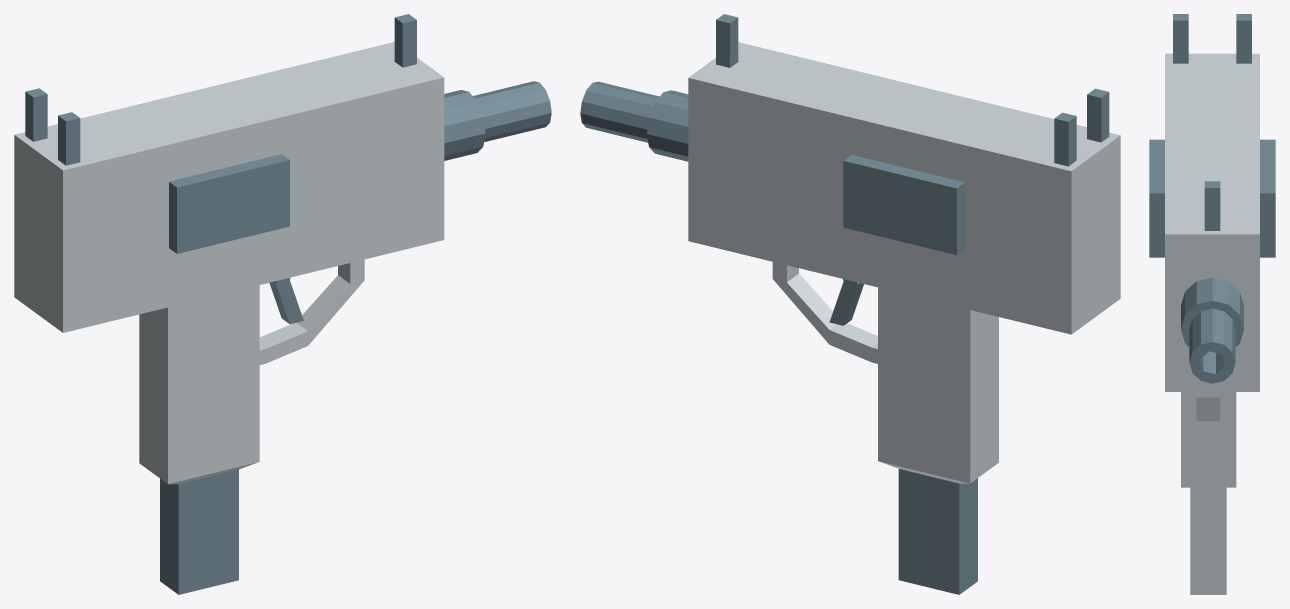
3 views of the same model, side by side, from view 1: azimuth 30°, elevation 25°; view 2: azimuth 150°, elevation 25°; view 3: azimuth 270°, elevation 25° (orthographic). The views are drawn at different scales.
Parts seen in each view (by area): view 1: mesh_1487853911, mesh_1708819615, mesh_47982412, mesh_1115432163, mesh_1330485529, mesh_216373091, mesh_1286593356, mesh_594497910, mesh_270998664; view 2: mesh_1487853911, mesh_1708819615, mesh_47982412, mesh_1115432163, mesh_1330485529, mesh_216373091, mesh_1286593356, mesh_594497910, mesh_270998664; view 3: mesh_1487853911, mesh_1708819615, mesh_1115432163, mesh_47982412, mesh_594497910, mesh_216373091, mesh_1286593356, mesh_1330485529.
Boxes of the visible parts, left/top/right/bottom form: mesh_1487853911: left=14, top=42, right=444, bottom=332; mesh_1708819615: left=139, top=285, right=259, bottom=594; mesh_47982412: left=169, top=154, right=289, bottom=253; mesh_1115432163: left=444, top=81, right=551, bottom=160; mesh_1330485529: left=259, top=259, right=364, bottom=364; mesh_216373091: left=25, top=88, right=47, bottom=141; mesh_1286593356: left=58, top=112, right=80, bottom=165; mesh_594497910: left=394, top=14, right=416, bottom=67; mesh_270998664: left=269, top=277, right=303, bottom=324; mesh_1487853911: left=688, top=42, right=1120, bottom=334; mesh_1708819615: left=878, top=287, right=998, bottom=594; mesh_47982412: left=843, top=155, right=964, bottom=255; mesh_1115432163: left=580, top=81, right=688, bottom=161; mesh_1330485529: left=772, top=262, right=877, bottom=363; mesh_216373091: left=1054, top=112, right=1076, bottom=166; mesh_1286593356: left=1087, top=88, right=1109, bottom=142; mesh_594497910: left=716, top=14, right=738, bottom=67; mesh_270998664: left=829, top=279, right=863, bottom=325; mesh_1487853911: left=1165, top=53, right=1259, bottom=391; mesh_1708819615: left=1181, top=392, right=1236, bottom=594; mesh_1115432163: left=1181, top=277, right=1243, bottom=383; mesh_47982412: left=1149, top=139, right=1275, bottom=257; mesh_594497910: left=1204, top=181, right=1220, bottom=230; mesh_216373091: left=1236, top=14, right=1251, bottom=63; mesh_1286593356: left=1173, top=14, right=1188, bottom=63; mesh_1330485529: left=1196, top=392, right=1220, bottom=421.
Size of the model in its own units: 71 by 69 by 16.
